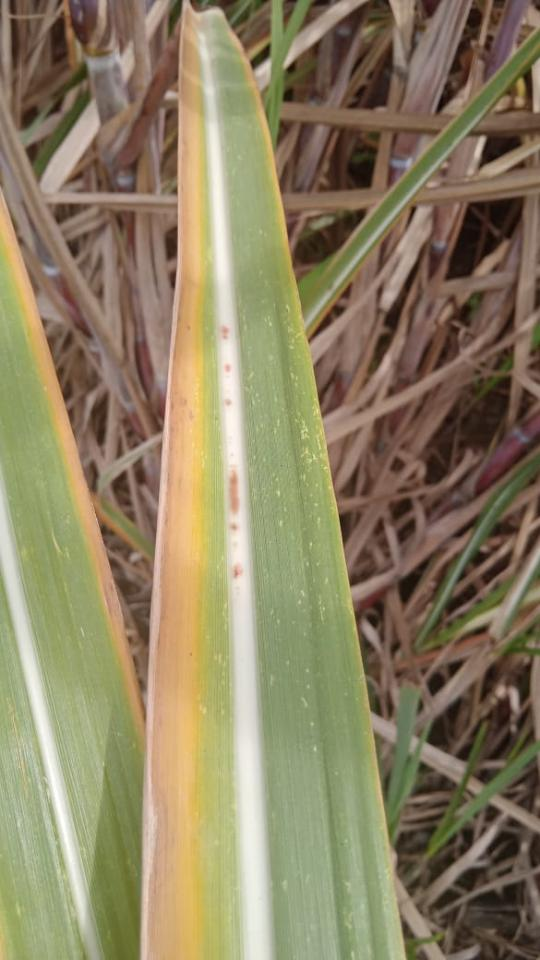RedRot: (227, 468, 241, 514), (232, 562, 244, 580), (220, 325, 231, 340), (228, 521, 240, 532), (224, 363, 232, 373), (224, 399, 232, 407)
Yellow: (0, 183, 148, 756), (146, 0, 207, 959), (228, 20, 302, 324)
